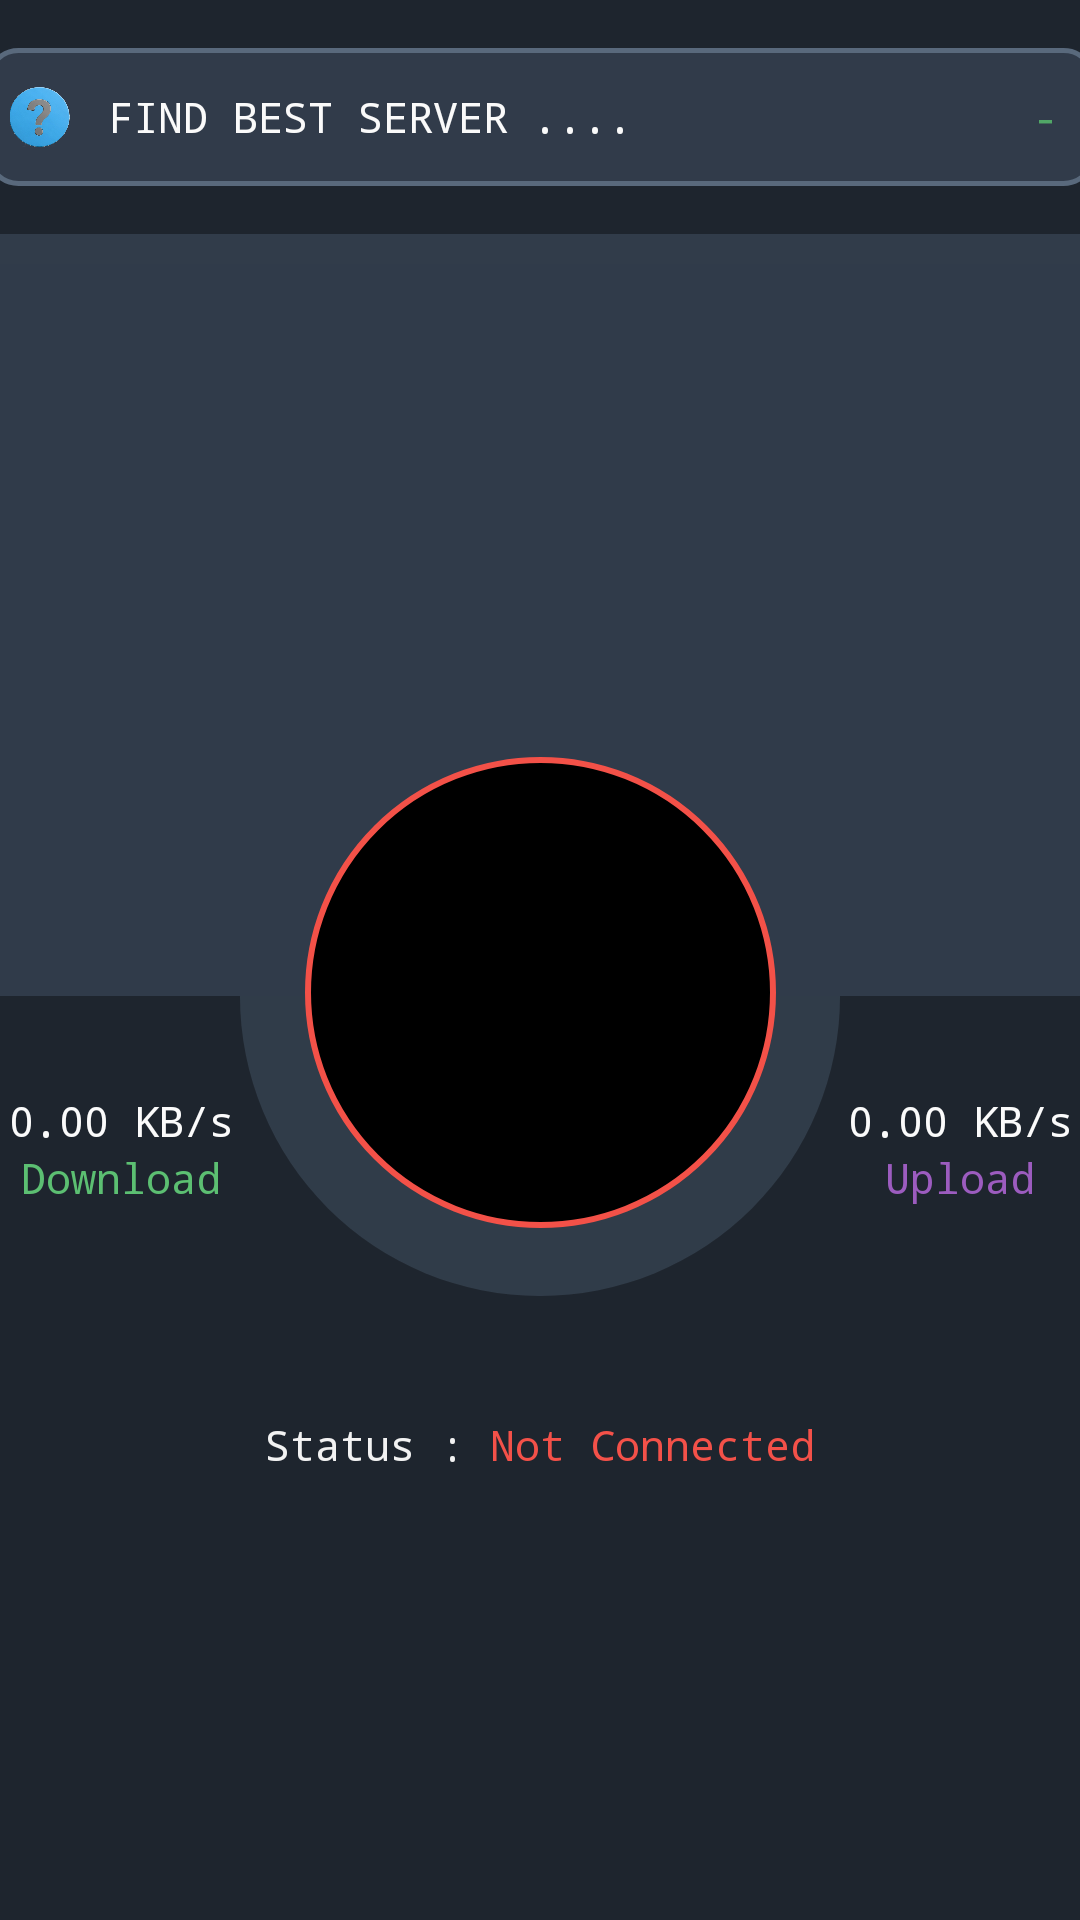

Screen size 1080x1920. Icon name, then its center in pixels as point (x, y):
flag null: point (40, 117)
